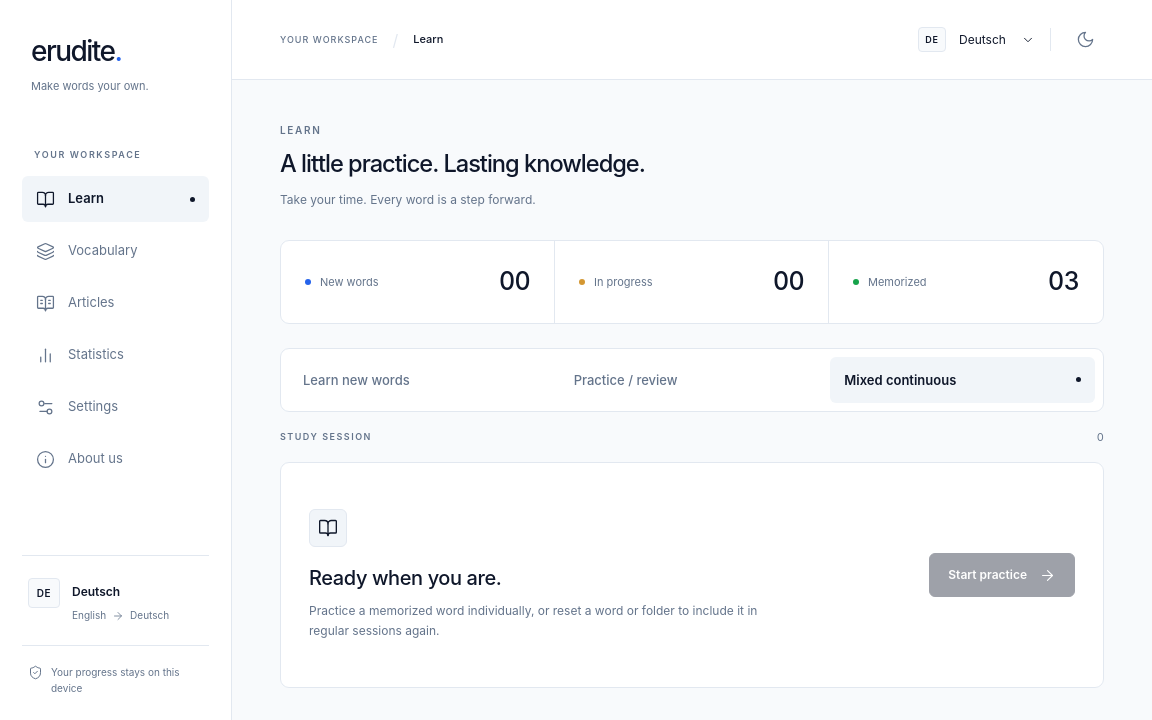
it: new and reset word practice › disables regular folder practice when all words are memorized but allows individual practice
The image size is (1152, 720).
What coordinates should you click on to do the following:
click the button "Vocabulary"
I would click on:
 (116, 251)
Its box is [22,228,209,274].
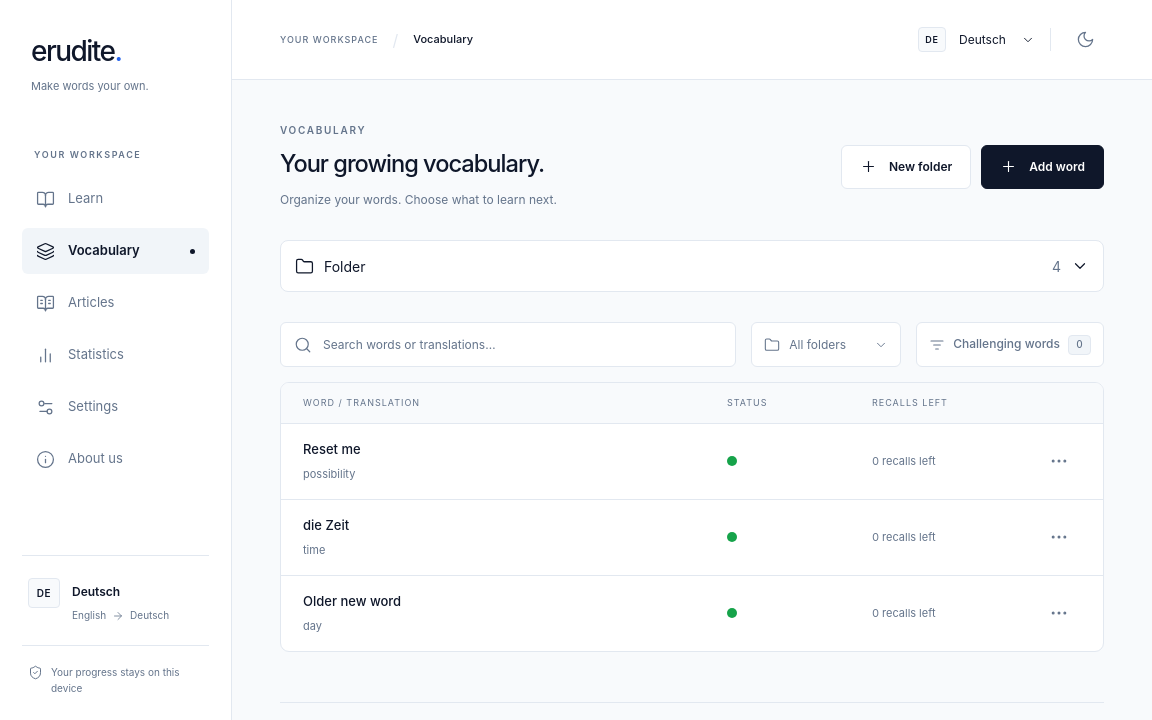
What coordinates should you click on to do the following:
click the button named "Word actions: Reset me"
I would click on:
 (1059, 461)
Its box is [1037,439,1081,483].
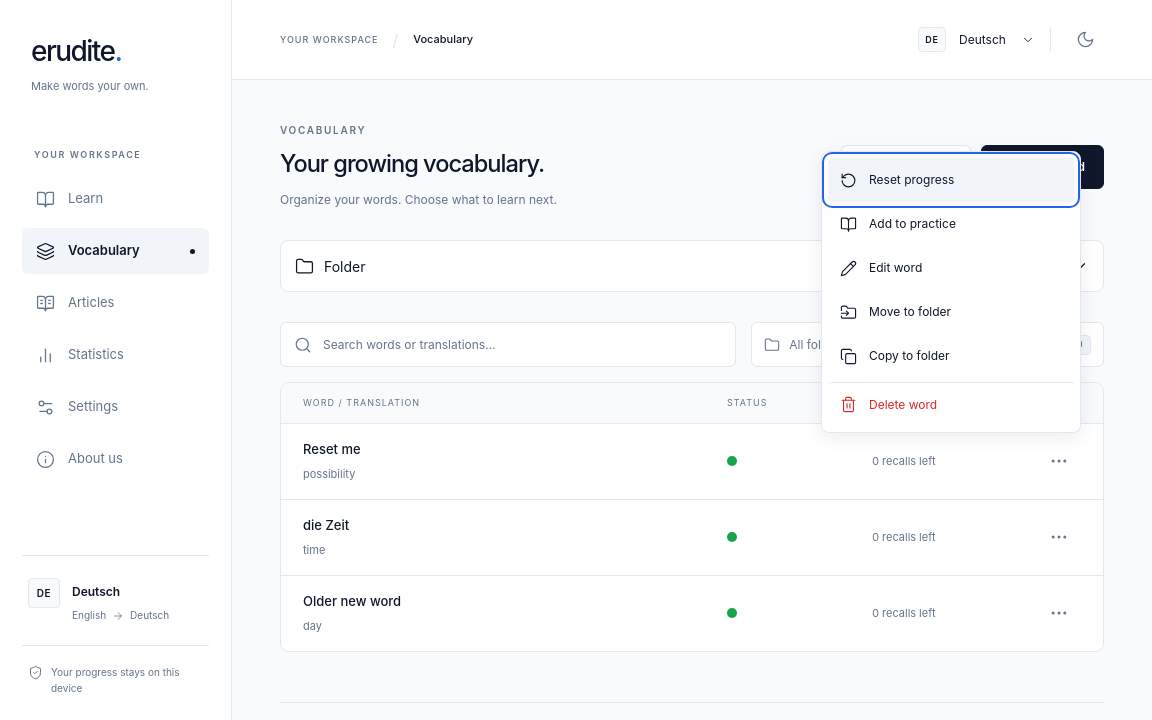
What coordinates should you click on to do the following:
click the menu item "Add to practice"
I would click on:
 (951, 224)
Its box is [828,202,1074,246].
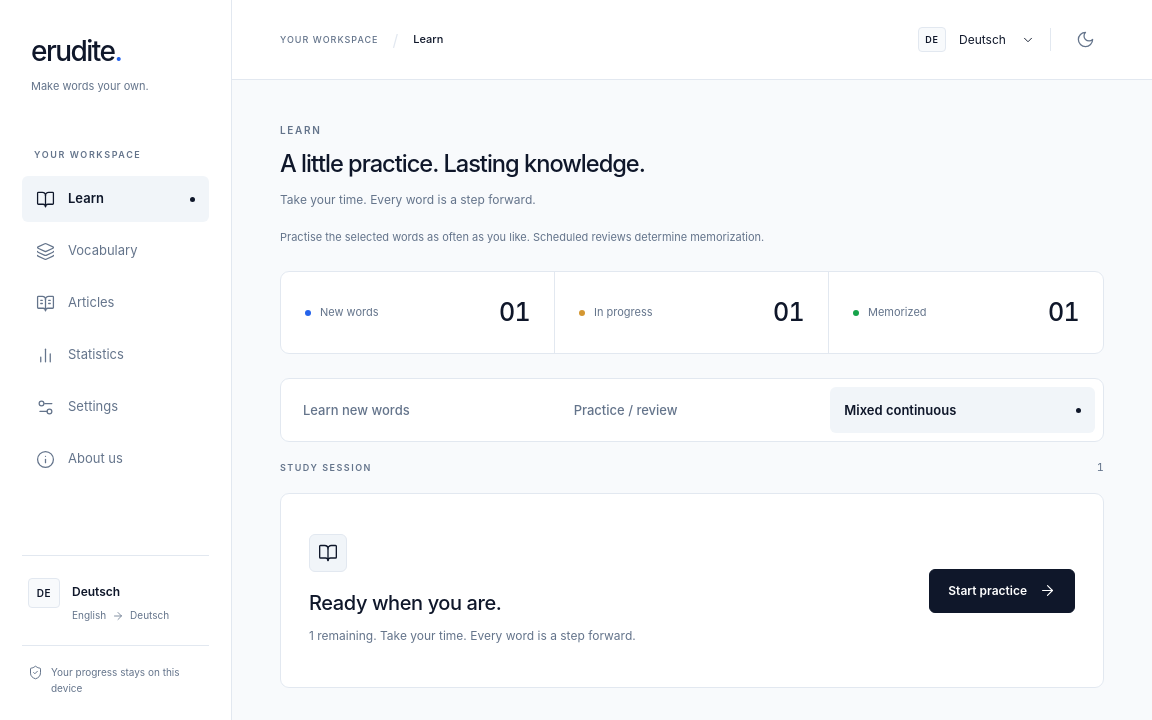
What coordinates should you click on to do the following:
click the button "Start practice"
I would click on:
 (1002, 591)
Its box is [929,569,1075,613].
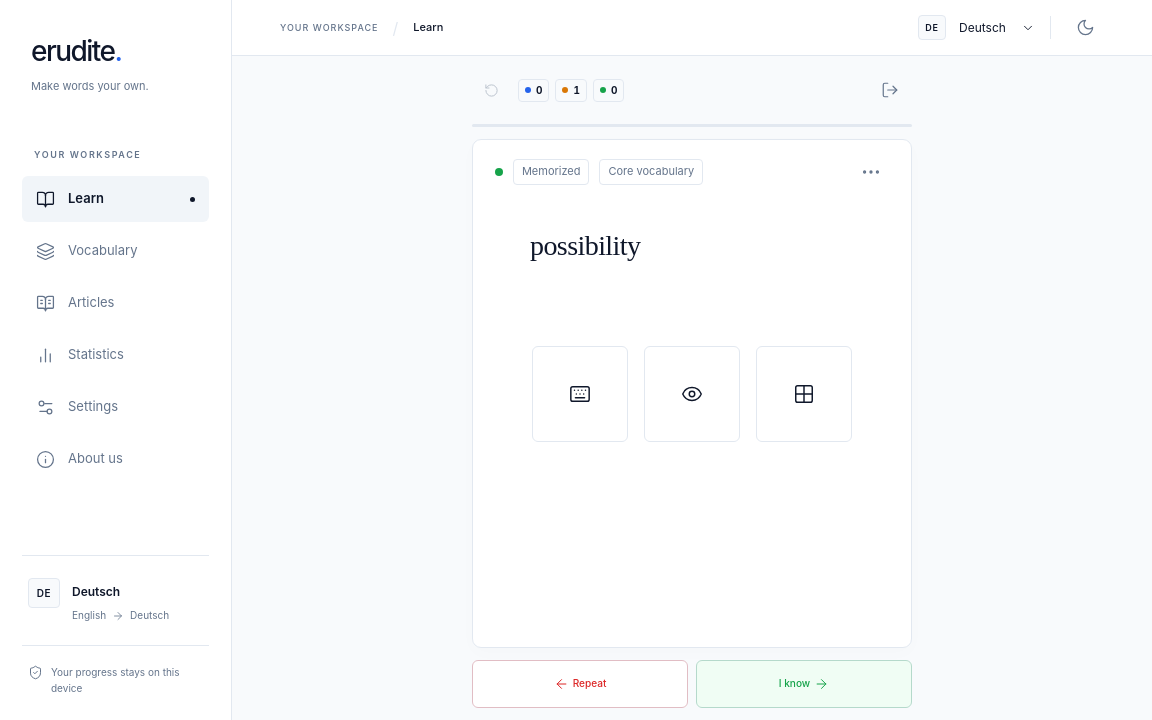
Now the heading "possibility" is shown, box [530,230,640,261]
What coordinates should you click on to do the following:
click the button "I know"
I would click on:
 (804, 684)
Its box is [696,660,912,708].
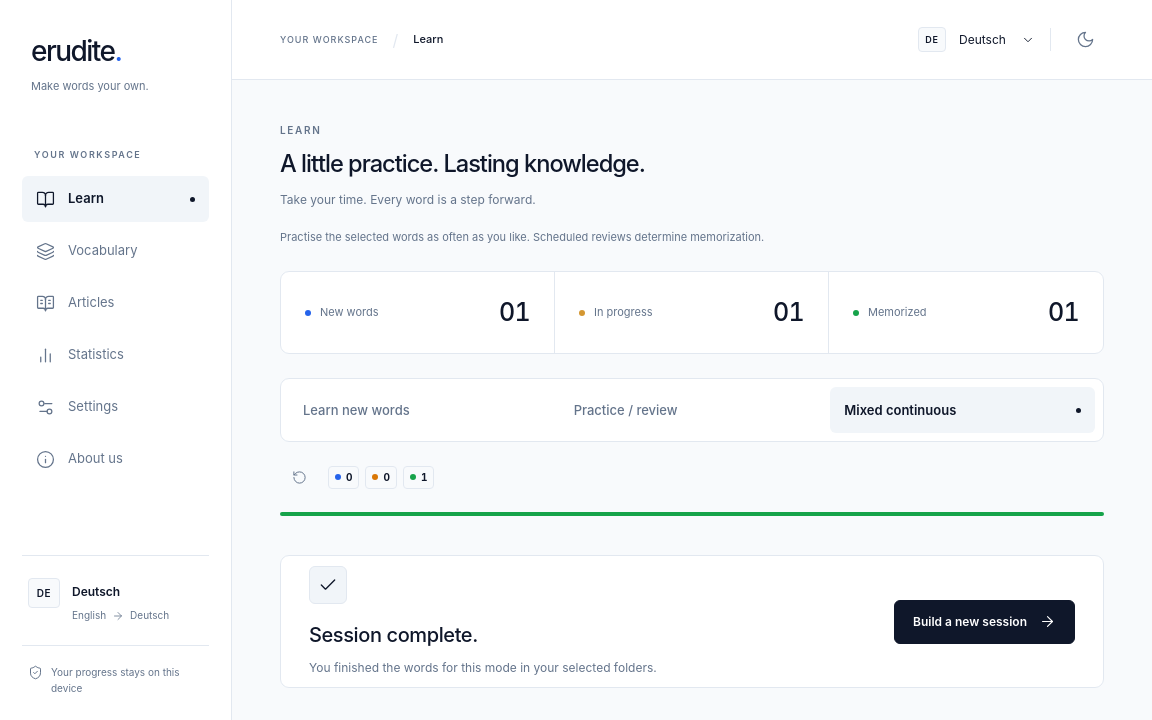
Now the text "Session complete." is shown, box [309,620,478,650]
